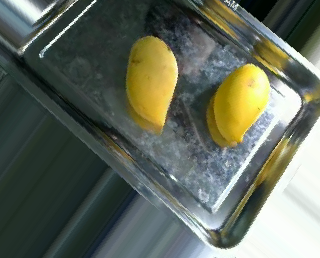Mango: (213, 53, 275, 149), (122, 33, 178, 133)
